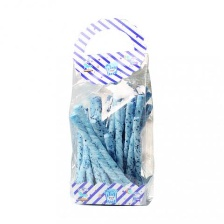snack: (60, 9, 161, 212)
